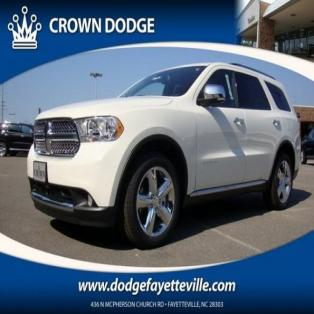Auto: (26, 61, 302, 250)
